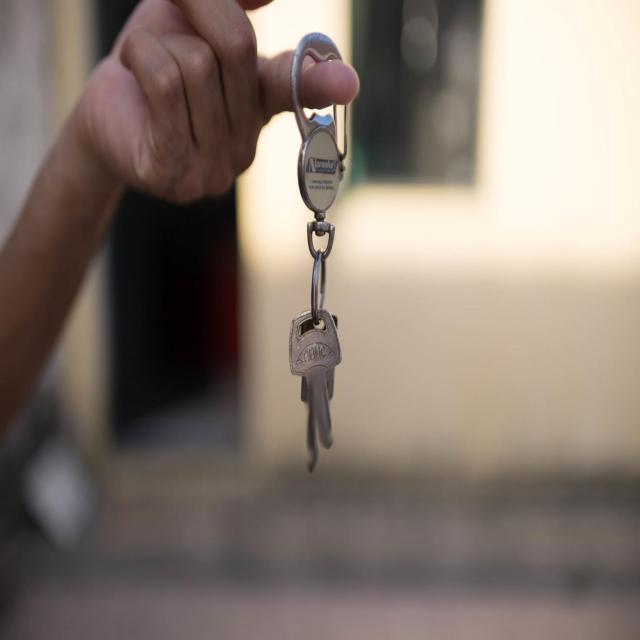Frontdoor keys: (286, 308, 344, 477)
